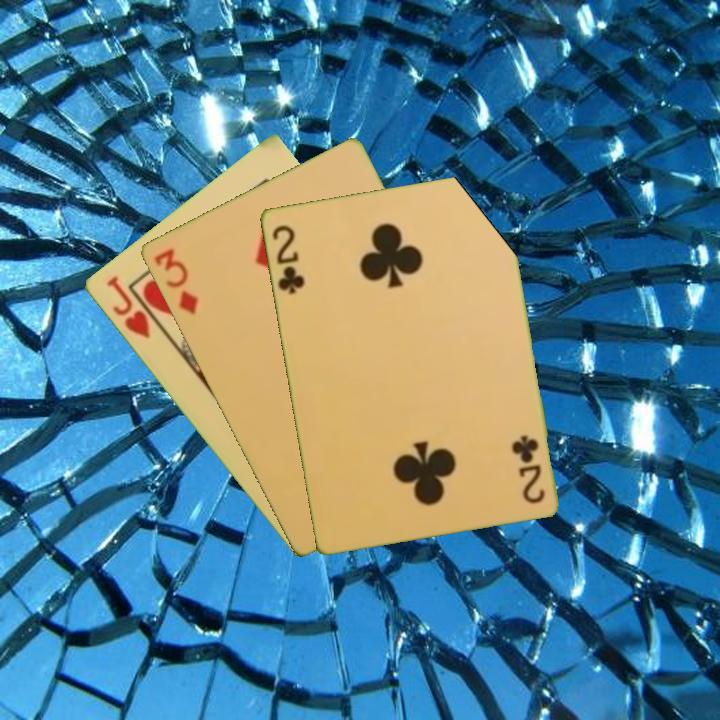2c: (268, 221, 307, 297), (510, 431, 547, 506)
3d: (150, 245, 201, 317)
Jh: (102, 272, 167, 342)
